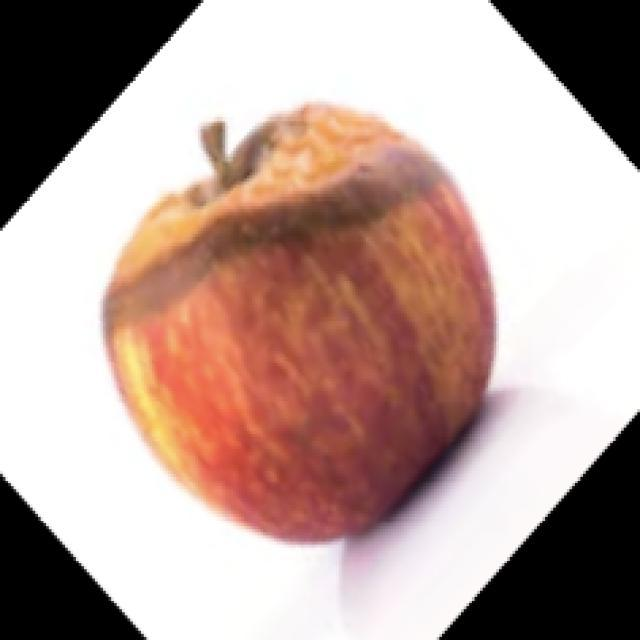Rotten: (115, 107, 490, 518)
